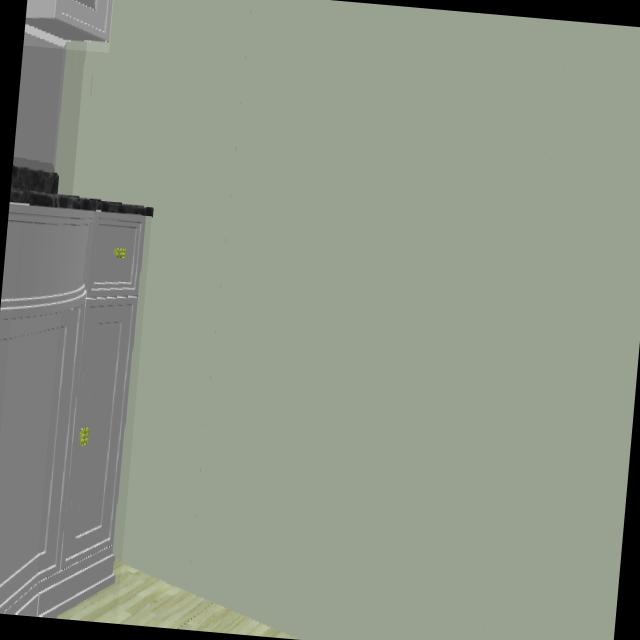cabinet: (0, 197, 152, 618), (24, 0, 113, 49)
washbasin: (9, 158, 146, 212)
